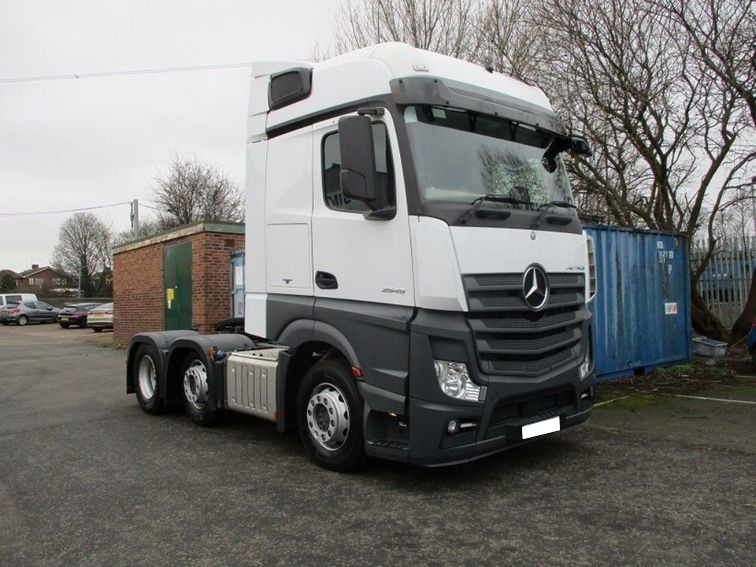Semi: (126, 40, 596, 470)
